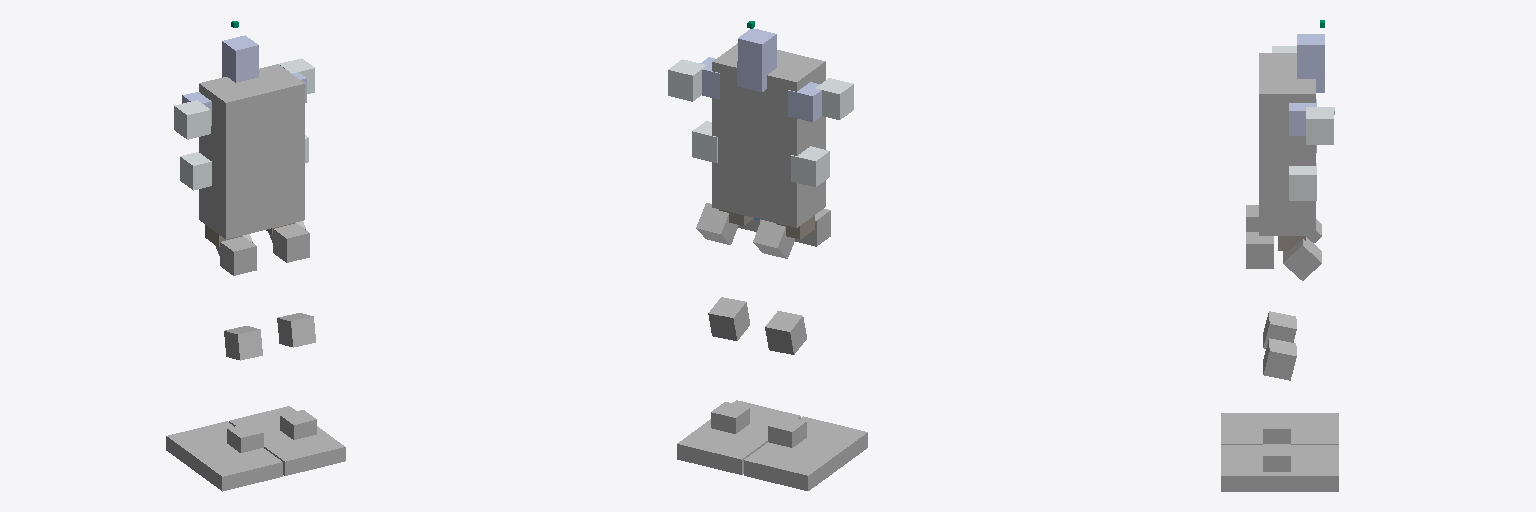
--- Render facts (derived) ---
Views: 3 orthographic renders of the robot side by side, from view 1: azimuth 30°, elevation 25°; view 2: azimuth 150°, elevation 25°; view 3: azimuth 270°, elevation 25°.
Robot: SAKURA — 24 links, 23 joints (20 continuous, 2 fixed, 1 floating); root link world; default pose: all joints at 0.
Visible links, largest first — view 1: TRUNK, LFOOT, RFOOT, RLEG1, LARM1, LLEG1, HEAD1, LLEG3, RLEG3, LARM2, LLEG4, RLEG4 (+1 smaller); view 2: TRUNK, LFOOT, RFOOT, LLEG3, RLEG3, HEAD1, LARM2, RARM1, LARM1, LARM0, RLEG2, LLEG2 (+6 smaller); view 3: TRUNK, RFOOT, LFOOT, RLEG3, RLEG2, RARM1, RARM2, RLEG1, HEAD1, LLEG3, RLEG4, LLEG4 (+1 smaller).
Link boxes in pixels (bbox=[...]): TRUNK: bbox=[199, 64, 304, 238]; LFOOT: bbox=[166, 421, 282, 491]; RFOOT: bbox=[229, 406, 345, 475]; RLEG1: bbox=[273, 223, 309, 262]; LARM1: bbox=[174, 100, 210, 139]; LLEG1: bbox=[220, 236, 256, 275]; HEAD1: bbox=[222, 35, 258, 74]; LLEG3: bbox=[224, 326, 262, 360]; RLEG3: bbox=[277, 313, 315, 347]; LARM2: bbox=[180, 152, 211, 190]; LLEG4: bbox=[227, 423, 263, 452]; RLEG4: bbox=[280, 410, 316, 439]; TRUNK: bbox=[712, 43, 825, 227]; LFOOT: bbox=[744, 416, 867, 490]; RFOOT: bbox=[677, 400, 800, 474]; LLEG3: bbox=[765, 311, 806, 354]; RLEG3: bbox=[708, 297, 749, 340]; HEAD1: bbox=[738, 28, 776, 69]; LARM2: bbox=[791, 146, 829, 186]; RARM1: bbox=[668, 59, 706, 101]; LARM1: bbox=[816, 78, 853, 119]; LARM0: bbox=[788, 82, 821, 121]; RLEG2: bbox=[696, 203, 738, 244]; LLEG2: bbox=[753, 220, 794, 258]; TRUNK: bbox=[1259, 53, 1315, 235]; RFOOT: bbox=[1221, 445, 1338, 491]; LFOOT: bbox=[1221, 413, 1338, 444]; RLEG3: bbox=[1263, 338, 1296, 380]; RLEG2: bbox=[1283, 237, 1321, 280]; RARM1: bbox=[1306, 107, 1334, 144]; RARM2: bbox=[1289, 163, 1316, 200]; RLEG1: bbox=[1246, 232, 1273, 268]; HEAD1: bbox=[1297, 34, 1324, 66]; LLEG3: bbox=[1263, 311, 1296, 348]; RLEG4: bbox=[1263, 444, 1290, 471]; LLEG4: bbox=[1263, 417, 1290, 443].
Bounding box of the posed robot: 0.31 × 0.208 × 0.8593 m (x, y, z).
Geometry: primitives only (box / cylinder / sphere), no mesh files.

The robot description file, URDF, robot "SAKURA":
<?xml version="1.0"?>
<robot
  name="SAKURA">	
    <!-- camera -->
  <!--<gazebo reference="camera_link">
    <sensor type="camera" name="camera">
      <update_rate>30.0</update_rate>
      <camera name="head">
        <horizontal_fov>1.3962634</horizontal_fov>
        <image>
          <width>800</width>
          <height>800</height>
          <format>R8G8B8</format>
        </image>
        <clip>
          <near>0.02</near>
          <far>300</far>
        </clip>
        <noise>
          <type>gaussian</type>
          <mean>0.0</mean>
          <stddev>0.007</stddev>
        </noise>
      </camera>
      <plugin name="camera_controller" filename="libgazebo_ros_camera.so">
        <alwaysOn>true</alwaysOn>
        <updateRate>0.0</updateRate>
        <cameraName>humanoid/camera</cameraName>
        <imageTopicName>image_raw</imageTopicName>
        <cameraInfoTopicName>camera_info</cameraInfoTopicName>
        <frameName>camera_link</frameName>
        <hackBaseline>0.07</hackBaseline>
        <distortionK1>0.0</distortionK1>
        <distortionK2>0.0</distortionK2>
        <distortionK3>0.0</distortionK3>
        <distortionT1>0.0</distortionT1>
        <distortionT2>0.0</distortionT2>
      </plugin>
    </sensor>
  </gazebo>
  -->
  <gazebo reference="imu_link">
    <gravity>true</gravity>
    <sensor name="imu_sensor" type="imu">
      <always_on>true</always_on>
      <update_rate>125</update_rate>
      <visualize>true</visualize>
      <topic>__default_topic__</topic>
      <plugin filename="libgazebo_ros_imu_sensor.so" name="imu_plugin">
        <topicName>imu/data_raw</topicName>
        <bodyName>imu_link</bodyName>
        <updateRateHZ>125.0</updateRateHZ>
        <gaussianNoise>0.0</gaussianNoise>
        <xyzOffset>0 0 0</xyzOffset>
        <rpyOffset>0 0 0</rpyOffset>
        <frameName>imu_link</frameName>
      </plugin>
      <pose>0 0 0 0 0 0</pose>
    </sensor>
  </gazebo>
  <gazebo>
    <plugin filename="libgazebo_ros_control.so" name="gazebo_ros_control">
      <robotNamespace>/SAKURA</robotNamespace>
      <robotSimType>gazebo_ros_control/DefaultRobotHWSim</robotSimType>
    </plugin>
  </gazebo>
  <gazebo reference="J_HEAD0">
	<stopErp>0.2</stopErp>
	<implicitSpringDamper>true</implicitSpringDamper>
	<provideFeedback>true</provideFeedback>
  </gazebo>  
  <gazebo reference="J_HEAD1">
	<stopErp>0.2</stopErp>
	<implicitSpringDamper>true</implicitSpringDamper>
	<provideFeedback>true</provideFeedback>
  </gazebo>  
  <gazebo reference="J_LARM0">
	<stopErp>0.2</stopErp>
	<implicitSpringDamper>true</implicitSpringDamper>
	<provideFeedback>true</provideFeedback>
  </gazebo>  
  <gazebo reference="J_LARM1">
	<stopErp>0.2</stopErp>
	<implicitSpringDamper>true</implicitSpringDamper>
	<provideFeedback>true</provideFeedback>
  </gazebo>  
  <gazebo reference="J_LARM2">
	<stopErp>0.2</stopErp>
	<implicitSpringDamper>true</implicitSpringDamper>
	<provideFeedback>true</provideFeedback>
  </gazebo>  
  <gazebo reference="J_RARM0">
	<stopErp>0.2</stopErp>
	<implicitSpringDamper>true</implicitSpringDamper>
	<provideFeedback>true</provideFeedback>
  </gazebo>  
  <gazebo reference="J_RARM1">
	<stopErp>0.2</stopErp>
	<implicitSpringDamper>true</implicitSpringDamper>
	<provideFeedback>true</provideFeedback>
  </gazebo>  
  <gazebo reference="J_LLEG0">
	<stopErp>0.2</stopErp>
	<implicitSpringDamper>true</implicitSpringDamper>
	<provideFeedback>true</provideFeedback>
  </gazebo>  
  <gazebo reference="J_LLEG1">
	<stopErp>0.2</stopErp>
	<implicitSpringDamper>true</implicitSpringDamper>
	<provideFeedback>true</provideFeedback>
  </gazebo>  
  <gazebo reference="J_LLEG2">
	<stopErp>0.2</stopErp>
	<implicitSpringDamper>true</implicitSpringDamper>
	<provideFeedback>true</provideFeedback>
  </gazebo>  
  <gazebo reference="J_LLEG3">
	<stopErp>0.2</stopErp>
	<implicitSpringDamper>true</implicitSpringDamper>
	<provideFeedback>true</provideFeedback>
  </gazebo>  
  <gazebo reference="J_LLEG4">
	<stopErp>0.2</stopErp>
	<implicitSpringDamper>true</implicitSpringDamper>
	<provideFeedback>true</provideFeedback>
  </gazebo>  
  <gazebo reference="J_RLEG0">
	<stopErp>0.2</stopErp>
	<implicitSpringDamper>true</implicitSpringDamper>
	<provideFeedback>true</provideFeedback>
  </gazebo>  
  <gazebo reference="J_RLEG1">
	<stopErp>0.2</stopErp>
	<implicitSpringDamper>true</implicitSpringDamper>
	<provideFeedback>true</provideFeedback>
  </gazebo>  
  <gazebo reference="J_RLEG2">
	<stopErp>0.2</stopErp>
	<implicitSpringDamper>true</implicitSpringDamper>
	<provideFeedback>true</provideFeedback>
  </gazebo>  
  <gazebo reference="J_RLEG3">
	<stopErp>0.2</stopErp>
	<implicitSpringDamper>true</implicitSpringDamper>
	<provideFeedback>true</provideFeedback>
  </gazebo>  
  <gazebo reference="J_RLEG4">
	<stopErp>0.2</stopErp>
	<implicitSpringDamper>true</implicitSpringDamper>
	<provideFeedback>true</provideFeedback>
  </gazebo> 
  <gazebo reference="J_RARM2">
	<stopErp>0.2</stopErp>
	<implicitSpringDamper>true</implicitSpringDamper>
	<provideFeedback>true</provideFeedback>
  </gazebo> 
  <gazebo reference="J_LFOOT">
	<stopErp>0.2</stopErp>
	<implicitSpringDamper>true</implicitSpringDamper>
	<provideFeedback>true</provideFeedback>
  </gazebo>  
  <gazebo reference="J_RFOOT">
	<stopErp>0.2</stopErp>
	<implicitSpringDamper>true</implicitSpringDamper>
	<provideFeedback>true</provideFeedback>
  </gazebo>  
  <gazebo reference="TRUNK">
    <mu1>1.0</mu1>
    <mu2>1.0</mu2>
    <kp>1220000.0</kp>
    <kd>1.0</kd> <!---->
  </gazebo>
  <gazebo reference="RFOOT">
    <mu1>1.0</mu1>
    <mu2>1.0</mu2>
    <kp>1220000.0</kp>
    <kd>1.0</kd> <!---->
  </gazebo>
  <gazebo reference="LFOOT">
    <mu1>1.0</mu1>
    <mu2>1.0</mu2>
    <kp>1220000.0</kp>
    <kd>1.0</kd> <!---->
  </gazebo>
  
<!-- FT SENSORS -->
<!--  <gazebo>
	<plugin name="ft_sensor" filename="libgazebo_ros_ft_sensor.so">
	  <updateRate>100.0</updateRate>
	  <topicName>ft_sensor_head0</topicName>
	  <jointName>J_HEAD0</jointName>
	</plugin>
  </gazebo>
  <gazebo>
	<plugin name="ft_sensor" filename="libgazebo_ros_ft_sensor.so">
	  <updateRate>100.0</updateRate>
	  <topicName>ft_sensor_head1</topicName>
	  <jointName>J_HEAD1</jointName>
	</plugin>
  </gazebo>

  <gazebo>
	<plugin name="ft_sensor" filename="libgazebo_ros_ft_sensor.so">
	  <updateRate>100.0</updateRate>
	  <topicName>ft_sensor_larm0</topicName>
	  <jointName>J_LARM0</jointName>
	</plugin>
  </gazebo>
  <gazebo>
	<plugin name="ft_sensor" filename="libgazebo_ros_ft_sensor.so">
	  <updateRate>100.0</updateRate>
	  <topicName>ft_sensor_larm1</topicName>
	  <jointName>J_LARM1</jointName>
	</plugin>
  </gazebo>
  <gazebo>
	<plugin name="ft_sensor" filename="libgazebo_ros_ft_sensor.so">
	  <updateRate>100.0</updateRate>
	  <topicName>ft_sensor_larm2</topicName>
	  <jointName>J_LARM2</jointName>
	</plugin>
  </gazebo>
  
  
    <gazebo>
	<plugin name="ft_sensor" filename="libgazebo_ros_ft_sensor.so">
	  <updateRate>100.0</updateRate>
	  <topicName>ft_sensor_rarm0</topicName>
	  <jointName>J_RARM0</jointName>
	</plugin>
  </gazebo>
  <gazebo>
	<plugin name="ft_sensor" filename="libgazebo_ros_ft_sensor.so">
	  <updateRate>100.0</updateRate>
	  <topicName>ft_sensor_rarm1</topicName>
	  <jointName>J_RARM1</jointName>
	</plugin>
  </gazebo>
  <gazebo>
	<plugin name="ft_sensor" filename="libgazebo_ros_ft_sensor.so">
	  <updateRate>100.0</updateRate>
	  <topicName>ft_sensor_rarm2</topicName>
	  <jointName>J_RARM2</jointName>
	</plugin>
  </gazebo>
  
  
  
  <gazebo>
	<plugin name="ft_sensor" filename="libgazebo_ros_ft_sensor.so">
	  <updateRate>100.0</updateRate>
	  <topicName>ft_sensor_lleg0</topicName>
	  <jointName>J_LLEG0</jointName>
	</plugin>
  </gazebo>
    <gazebo>
	<plugin name="ft_sensor" filename="libgazebo_ros_ft_sensor.so">
	  <updateRate>100.0</updateRate>
	  <topicName>ft_sensor_lleg1</topicName>
	  <jointName>J_LLEG1</jointName>
	</plugin>
  </gazebo>
    <gazebo>
	<plugin name="ft_sensor" filename="libgazebo_ros_ft_sensor.so">
	  <updateRate>100.0</updateRate>
	  <topicName>ft_sensor_lleg2</topicName>
	  <jointName>J_LLEG2</jointName>
	</plugin>
  </gazebo>
    <gazebo>
	<plugin name="ft_sensor" filename="libgazebo_ros_ft_sensor.so">
	  <updateRate>100.0</updateRate>
	  <topicName>ft_sensor_lleg3</topicName>
	  <jointName>J_LLEG3</jointName>
	</plugin>
  </gazebo>
    <gazebo>
	<plugin name="ft_sensor" filename="libgazebo_ros_ft_sensor.so">
	  <updateRate>100.0</updateRate>
	  <topicName>ft_sensor_lleg4</topicName>
	  <jointName>J_LLEG4</jointName>
	</plugin>
  </gazebo>
    <gazebo>
	<plugin name="ft_sensor" filename="libgazebo_ros_ft_sensor.so">
	  <updateRate>100.0</updateRate>
	  <topicName>ft_sensor_lfoot</topicName>
	  <jointName>J_LFOOT</jointName>
	</plugin>
  </gazebo>
  
    <gazebo>
	<plugin name="ft_sensor" filename="libgazebo_ros_ft_sensor.so">
	  <updateRate>100.0</updateRate>
	  <topicName>ft_sensor_rleg0</topicName>
	  <jointName>J_RLEG0</jointName>
	</plugin>
  </gazebo>
    <gazebo>
	<plugin name="ft_sensor" filename="libgazebo_ros_ft_sensor.so">
	  <updateRate>100.0</updateRate>
	  <topicName>ft_sensor_rleg1</topicName>
	  <jointName>J_RLEG1</jointName>
	</plugin>
  </gazebo>
    <gazebo>
	<plugin name="ft_sensor" filename="libgazebo_ros_ft_sensor.so">
	  <updateRate>100.0</updateRate>
	  <topicName>ft_sensor_rleg2</topicName>
	  <jointName>J_RLEG2</jointName>
	</plugin>
  </gazebo>
    <gazebo>
	<plugin name="ft_sensor" filename="libgazebo_ros_ft_sensor.so">
	  <updateRate>100.0</updateRate>
	  <topicName>ft_sensor_rleg3</topicName>
	  <jointName>J_RLEG3</jointName>
	</plugin>
  </gazebo>
    <gazebo>
	<plugin name="ft_sensor" filename="libgazebo_ros_ft_sensor.so">
	  <updateRate>100.0</updateRate>
	  <topicName>ft_sensor_rleg4</topicName>
	  <jointName>J_RLEG4</jointName>
	</plugin>
  </gazebo>
    <gazebo>
	<plugin name="ft_sensor" filename="libgazebo_ros_ft_sensor.so">
	  <updateRate>100.0</updateRate>
	  <topicName>ft_sensor_rfoot</topicName>
	  <jointName>J_RFOOT</jointName>
	</plugin>
  </gazebo> -->
  <gazebo>
  	<plugin name="ft_sensor" filename="libgazebo_ros_ft_sensor.so">
	  <updateRate>100.0</updateRate>
	  <topicName>ft_sensor_rfoot</topicName>
	  <jointName>J_RFOOT</jointName>
	</plugin>
	
	<plugin name="ft_sensor" filename="libgazebo_ros_ft_sensor.so">
	  <updateRate>100.0</updateRate>
	  <topicName>ft_sensor_lfoot</topicName>
	  <jointName>J_LFOOT</jointName>
	</plugin>
  </gazebo>
  
  
  

  <link name="world">  </link>
  
  <link name="imu_link">
    <visual>
      <origin xyz="0 0 0" rpy="0 0 0"/>
      <geometry>
    <box size="0.01 0.01 0.01"/>
      </geometry>
      <material name="red"/>
    </visual>

    <inertial>
      <mass value="1e-3" />
      <origin xyz="0 0 0" rpy="0 0 0"/>
      <inertia ixx="1e-3" ixy="0" ixz="0" iyy="1e-3" iyz="0" izz="1e-3" />
    </inertial>
  </link>
  <joint name="imu_joint" type="fixed">
    <axis xyz="-1 0 0" />
    <origin xyz="0 0 0" rpy="0 0 0"/>
    <parent link="TRUNK"/>
    <child link="imu_link"/>
  </joint>
  
  
   <!-- Camera -->
  <link name="camera_link">
    <visual>
      <origin xyz="0 0 0" rpy="0 0 0"/>
      <geometry>
    <box size="0.01 0.01 0.01"/>
      </geometry>
      <material name="red"/>
    </visual>

    <inertial>
      <mass value="1e-3" />
      <origin xyz="0 0 0" rpy="0 0 0"/>
      <inertia ixx="1e-3" ixy="0" ixz="0" iyy="1e-3" iyz="0" izz="1e-3" />
    </inertial>
  </link>
  
  <joint name="camera_joint" type="fixed">
    <axis xyz="0 0 1" />
    <origin xyz="0.02 0.055 0.00" rpy="-1.5707 0 0"/>
    <parent link="HEAD1"/>
    <child link="camera_link"/>
  </joint>

  
  
  
  <link
    name="TRUNK">
    <inertial>
      <origin
        xyz="-0.000142944293532541 -0.0159940135836359 0.119253638413231"
        rpy="0 0 0" />
      <mass
        value="1.4778155091901" />
      <inertia
        ixx="0.0125398154437975"
        ixy="0"
        ixz="0"
        iyy="0.016695640033345"
        iyz="0"
        izz="0.01567882258573842" />
    </inertial>
    <collision>
      <origin
        xyz="0 -0.04 0.14"
        rpy="0 0 0" />
        <geometry>
          <box size="0.17 0.1 0.28"/>
        </geometry>
    </collision>
    <visual>
      <origin
        xyz="0 -0.04 0.14"
        rpy="0 0 0" />
        <geometry>
          <box size="0.17 0.1 0.28"/>
        </geometry>
      <material
        name="">
        <color
          rgba="0.752941176470588 0.752941176470588 0.752941176470588 1" />
      </material>
    </visual>
  </link>
  <joint name="fixed" type="floating">
    <parent link="world"/>
    <child link="TRUNK"/>
    <origin xyz="0 0 0.50" rpy="0 0 0"/>
  </joint>
  <link
    name="HEAD0">
    <inertial>
      <origin
        xyz="-4.1596E-06 -0.00045169 0.0273"
        rpy="0 0 0" />
      <mass
        value="0.072495" />
      <inertia ixx="1e-3" ixy="0" ixz="0" iyy="1e-3" iyz="0" izz="1e-3" />
    </inertial>
    <visual>
      <origin
        xyz="0 0 0"
        rpy="0 0 0" />
        <geometry>
          <box size="0.05 0.05 0.05"/>
        </geometry>
      <material
        name="">
        <color
          rgba="0.79216 0.81961 0.93333 1" />
      </material>
    </visual>
  </link>
  <link
    name="HEAD1">
    <inertial>
      <origin
        xyz="0.000492167176094648 0.0499545659310894 0"
        rpy="0 0 0" />
      <mass
        value="0.160467558648652" />
      <inertia ixx="1e-3" ixy="0" ixz="0" iyy="1e-3" iyz="0" izz="1e-3" />
    </inertial>
    <visual>
    <origin
        xyz="0 0 0"
        rpy="0 0 0" />
        <geometry>
          <box size="0.05 0.05 0.05"/>
        </geometry>
      <material
        name="">
        <color
          rgba="0.792156862745098 0.819607843137255 0.933333333333333 1" />
      </material>
    </visual>
  </link>

  
  <joint
    name="J_HEAD0"
    type="continuous">
    <origin
      xyz="0 0.002 0.2785"
      rpy="0 0 -1.5708" />
    <parent
      link="TRUNK" />
    <child
      link="HEAD0" />
    <axis
      xyz="0 0 1" />
    <limit
      effort="10"
      velocity="8.58" />
    <dynamics 
	  damping= "0.7"
	  friction="0.5"/>
  </joint>
  
  <joint
    name="J_HEAD1"
    type="continuous">
    <origin
      xyz="0 -0.0005 0.0425"
      rpy="1.5708 0 3.1416" />
    <parent
      link="HEAD0" />
    <child
      link="HEAD1" />
    <axis
      xyz="0 0 -1" />
    <limit
      effort="10"
      velocity="8.58" />
    <dynamics 
	  damping= "0.7"
	  friction="0.5"/>
  </joint>
  
  <link
    name="LARM0">
    <inertial>
      <origin
        xyz="0 0 0.0103025666414173"
        rpy="0 0 0" />
      <mass
        value="0.0066175226097181" />
      <inertia
        ixx="1.E-03"
        ixy="0"
        ixz="0"
        iyy="1.E-03"
        iyz="0"
        izz="1.E-03" />
    </inertial>
    <visual>
    <origin
        xyz="0 0 0"
        rpy="0 0 0" />
        <geometry>
          <box size="0.05 0.05 0.05"/>
        </geometry>
      <material
        name="">
        <color
          rgba="0.792156862745098 0.819607843137255 0.933333333333333 1" />
      </material>
    </visual>
  </link>
  <joint
    name="J_LARM0"
    type="continuous">
    <origin
      xyz="-0.094 -0.0125 0.237"
      rpy="1.5708 3.14159 -1.5708" />
    <parent
      link="TRUNK" />
    <child
      link="LARM0" />
    <axis
      xyz="0 0 1" />
    <limit
      effort="10"
      velocity="8.58" />
    <dynamics 
     damping= "0.7"
     friction="0.5"/>
  </joint>
  <link
    name="LARM1">
    <inertial>
      <origin
        xyz="-0.000203905909046856 -0.0358166170046635 -0.030724518771744"
        rpy="0 0 0" />
      <mass
        value="0.386889741732442" />
      <inertia
        ixx="0.001319462933467775"
        ixy="0"
        ixz="0"
        iyy="0.001"
        iyz="0"
        izz="0.001386423060557297" />
    </inertial>
    <visual>
    <origin
        xyz="0 0 0"
        rpy="0 0 0" />
        <geometry>
          <box size="0.05 0.05 0.05"/>
        </geometry>
      <material
        name="">
        <color
          rgba="0.898039215686275 0.92156862745098 0.929411764705882 1" />
      </material>
    </visual>
  </link>
  <joint
    name="J_LARM1"
    type="continuous">
    <origin
      xyz="-0.0308 0 0.036"
      rpy="3.1416 1.5708 0" />
    <parent
      link="LARM0" />
    <child
      link="LARM1" />
    <axis
      xyz="0 0 -1" />
    <limit
      effort="10"
      velocity="8.58" />
        <dynamics 
     damping= "0.7"
     friction="0.5"/>
  </joint>
  <link
    name="LARM2">
    <inertial>
      <origin
        xyz="-0.000946892853796732 -0.0604743903550126 -0.030549305382329"
        rpy="0 0 0" />
      <mass
        value="0.417770884687889" />
      <inertia
        ixx="0.00130365609096481"
        ixy="0"
        ixz="0"
        iyy="0.001"
        iyz="0"
        izz="0.00130522583526536" />
    </inertial>
    <visual>
    <origin
        xyz="0 0 0"
        rpy="0 0 0" />
        <geometry>
          <box size="0.05 0.05 0.05"/>
        </geometry>
      <material
        name="">
        <color
          rgba="0.898039215686275 0.92156862745098 0.929411764705882 1" />
      </material>
    </visual>
  </link>
  <joint
    name="J_LARM2"
    type="continuous">
    <origin
      xyz="0.0307 -0.1235 -0.0308"
      rpy="0 1.5708 0" />
    <parent
      link="LARM1" />
    <child
      link="LARM2" />
    <axis
      xyz="0 0 -1" />
    <limit
      effort="10"
      velocity="8.58" />
        <dynamics 
     damping= "0.7"
     friction="0.5"/>
  </joint>
  <link
    name="RARM0">
    <inertial>
      <origin
        xyz="0 0 0.0103025666414173"
        rpy="0 0 0" />
      <mass
        value="0.00661752260971814" />
      <inertia
        ixx="1.E-03"
        ixy="0"
        ixz="0"
        iyy="1.E-03"
        iyz="0"
        izz="1.E-03" />
    </inertial>
    <visual>
    <origin
        xyz="0 0 0"
        rpy="0 0 0" />
        <geometry>
          <box size="0.05 0.05 0.05"/>
        </geometry>
      <material
        name="">
        <color
          rgba="0.792156862745098 0.819607843137255 0.933333333333333 1" />
      </material>
    </visual>
  </link>
  <joint
    name="J_RARM0"
    type="continuous">
    <origin
      xyz="0.094 -0.0125 0.237"
      rpy="-1.5708 0 -1.5708" />
    <parent
      link="TRUNK" />
    <child
      link="RARM0" />
    <axis
      xyz="0 0 1" />
    <limit
      effort="10"
      velocity="8.58" />
        <dynamics 
     damping= "0.7"
     friction="0.5"/>
  </joint>
  <link
    name="RARM1">
    <inertial>
      <origin
        xyz="-0.00020391 -0.035817 -0.030725"
        rpy="0 0 0" />
      <mass
        value="0.38689" />
      <inertia
        ixx="0.00131946"
        ixy="0"
        ixz="0"
        iyy="0.001"
        iyz="0"
        izz="0.00138642" />
    </inertial>
    <visual>
    <origin
        xyz="0 0 0"
        rpy="0 0 0" />
        <geometry>
          <box size="0.05 0.05 0.05"/>
        </geometry>
      <material
        name="">
        <color
          rgba="0.89804 0.92157 0.92941 1" />
      </material>
    </visual>
  </link>
  <joint
    name="J_RARM1"
    type="continuous">
    <origin
      xyz="-0.0308 0 0.036"
      rpy="3.1416 1.5708 0" />
    <parent
      link="RARM0" />
    <child
      link="RARM1" />
    <axis
      xyz="0 0 1" />
    <limit
      effort="10"
      velocity="8.58" />
        <dynamics 
     damping= "0.7"
     friction="0.5"/>
  </joint>
  <link
    name="RARM2">
    <inertial>
      <origin
        xyz="-0.000946892853796774 -0.0604743903550127 -0.0305493053823289"
        rpy="0 0 0" />
      <mass
        value="0.417770884687889" />
      <inertia
        ixx="0.00130365609096481"
        ixy="0"
        ixz="0"
        iyy="0.001"
        iyz="0"
        izz="0.00130522583526536" />
    </inertial>
    <visual>
    <origin
        xyz="0 0 0"
        rpy="0 0 0" />
        <geometry>
          <box size="0.05 0.05 0.05"/>
        </geometry>
      <material
        name="">
        <color
          rgba="0.898039215686275 0.92156862745098 0.929411764705882 1" />
      </material>
    </visual>
  </link>
  <joint
    name="J_RARM2"
    type="continuous">
    <origin
      xyz="0.0307 -0.1235 -0.0308"
      rpy="0 1.5708 0" />
    <parent
      link="RARM1" />
    <child
      link="RARM2" />
    <axis
      xyz="0 0 -1" />
    <limit
      effort="10"
      velocity="8.58" />
        <dynamics 
     damping= "0.7"
     friction="0.5"/>
  </joint>
  <link
    name="LLEG0">
    <inertial>
      <origin
        xyz="0 0 0.012339611662812"
        rpy="0 0 0" />
      <mass
        value="0.137487098095279" />
      <inertia
        ixx="0.001"
        ixy="0"
        ixz="0"
        iyy="0.001"
        iyz="0"
        izz="0.001" />
    </inertial>
    <visual>
    <origin
        xyz="0 0 0"
        rpy="0 0 0" />
        <geometry>
          <box size="0.05 0.05 0.05"/>
        </geometry>
      <material
        name="">
        <color
          rgba="0.650980392156863 0.619607843137255 0.588235294117647 1" />
      </material>
    </visual>
  </link>
  <joint
    name="J_LLEG0"
    type="continuous">
    <origin
      xyz="-0.057 -0.0325 -0.005"
      rpy="-3.14159265358979 0 -1.5707963267949" />
    <parent
      link="TRUNK" />
    <child
      link="LLEG0" />
    <axis
      xyz="0 0 1" />
    <limit
      effort="10"
      velocity="8.58" />
        <dynamics 
     damping= "0.7"
     friction="0.5"/>
  </joint>
  <link
    name="LLEG1">
    <inertial>
      <origin
        xyz="0 -0.014933566350856 -0.0542307430726147"
        rpy="0 0 0" />
      <mass
        value="0.484317524341268" />
      <inertia
        ixx="0.001258532465487086"
        ixy="0"
        ixz="07"
        iyy="0.001256538006237082"
        iyz="8.86337248194806E-06"
        izz="0.001" />
    </inertial>
    <visual>
    <origin
        xyz="0 0 0"
        rpy="0 0 0" />
        <geometry>
          <box size="0.05 0.05 0.05"/>
        </geometry>
      <material
        name="">
        <color
          rgba="0.752941176470588 0.752941176470588 0.752941176470588 1" />
      </material>
    </visual>
  </link>
  <joint
    name="J_LLEG1"
    type="continuous">
    <origin
      xyz="0.056 0 0.036"
      rpy="-1.5707963267949 0 -1.5707963267949" />
    <parent
      link="LLEG0" />
    <child
      link="LLEG1" />
    <axis
      xyz="0 0 -1" />
    <limit
      effort="10"
      velocity="8.58" />
        <dynamics 
     damping= "0.7"
     friction="0.5"/>
  </joint>
  <link
    name="LLEG2">
    <inertial>
      <origin
        xyz="0.0896135033902749 -0.121669815792639 -0.0285739776731877"
        rpy="0 0 0" />
      <mass
        value="0.429581814867276" />
      <inertia
        ixx="0.001739443276879588"
        ixy="0"
        ixz="0"
        iyy="0.00145781924000273"
        iyz="0"
        izz="0.00100793675092908" />
    </inertial>
    <visual>
    <origin
        xyz="0 0 0"
        rpy="0 0 0" />
        <geometry>
          <box size="0.05 0.05 0.05"/>
        </geometry>
      <material
        name="">
        <color
          rgba="0.752941176470588 0.752941176470588 0.752941176470588 1" />
      </material>
    </visual>
  </link>
  <joint
    name="J_LLEG2"
    type="continuous">
    <origin
      xyz="0.0289999999999999 0 -0.0750000000000234"
      rpy="-1.5707963267949 0.78539816339745 -1.5707963267949" />
    <parent
      link="LLEG1" />
    <child
      link="LLEG2" />
    <axis
      xyz="0 0 1" />
    <limit
      effort="10"
      velocity="8.58" />
        <dynamics 
     damping= "0.7"
     friction="0.5"/>
  </joint>
  <link
    name="LLEG3">
    <inertial>
      <origin
        xyz="0.0938607247050214 0.021121469241447 -0.0266864244548486"
        rpy="0 0 0" />
      <mass
        value="0.253457988874213" />
      <inertia
        ixx="0.001157893827081503"
        ixy="0"
        ixz="0"
        iyy="0.001215254509125973"
        iyz="0"
        izz="0.001" />
    </inertial>
    <visual>
    <origin
        xyz="0 0 0"
        rpy="0 0 0" />
        <geometry>
          <box size="0.05 0.05 0.05"/>
        </geometry>
      <material
        name="">
        <color
          rgba="0.752941176470588 0.752941176470588 0.752941176470588 1" />
      </material>
    </visual>
  </link>
  <joint
    name="J_LLEG3"
    type="continuous">
    <origin
      xyz="0.112429978208667 -0.169643181644254 0.00160000000000024"
      rpy="-0.0320557226319531 0.0283578707512148 -1.01721646459287" />
    <parent
      link="LLEG2" />
    <child
      link="LLEG3" />
    <axis
      xyz="-0.0283540701513945 -0.0320373469653184 0.999084408398647" />
    <limit
      effort="10"
      velocity="8.58" />
        <dynamics 
     damping= "0.7"
     friction="0.5"/>  
  </joint>
  <link
    name="LLEG4">
    <inertial>
      <origin
        xyz="0.0207692569273853 -0.0149335663508559 -0.0309509783436903"
        rpy="0 0 0" />
      <mass
        value="0.484317524341267" />
      <inertia
        ixx="0.001"
        ixy="0"
        ixz="0"
        iyy="0.001256538006237082"
        iyz="0"
        izz="0.001258532465487085" />
    </inertial>
    <visual>
    <origin
        xyz="0 0 0"
        rpy="0 0 0" />
        <geometry>
          <box size="0.05 0.05 0.05"/>
        </geometry>
      <material
        name="">
        <color
          rgba="0.752941176470588 0.752941176470588 0.752941176470588 1" />
      </material>
    </visual>
  </link>
  <joint
    name="J_LLEG4"
    type="continuous">
    <origin
      xyz="0.19759 0.040682 0.007913"
      rpy="0.034963 0.024684 -1.339" />
    <parent
      link="LLEG3" />
    <child
      link="LLEG4" />
    <axis
      xyz="0 0 -1" />
    <limit
      effort="10"
      velocity="8.58" />
        <dynamics 
     damping= "0.7"
     friction="0.5"/>
  </joint>
  <link
    name="LFOOT">
    <inertial>
      <origin
        xyz="-0.00984398078216434 0.033081446163245 0.0742424926896279"
        rpy="0 0 0" />
      <mass
        value="0.474832547151362" />
      <inertia
        ixx="0.001"
        ixy="0"
        ixz="0"
        iyy="0.001"
        iyz="0"
        izz="0.001" />
    </inertial>
    <visual>
      <origin
        xyz="-0.01 0.021 0.078"
        rpy="0 0 0" />
        <geometry>
          <box size="0.13 0.03 0.208"/>
        </geometry>
      <material
        name="">
        <color
          rgba="0.752941176470588 0.752941176470588 0.752941176470588 1" />
      </material>
    </visual>
    <collision>
      <origin
        xyz="-0.01 0.021 0.078"
        rpy="0 0 0" />
        <geometry>
          <box size="0.13 0.03 0.208"/>
        </geometry>
    </collision>
  </link>
  <joint
    name="J_LFOOT"
    type="continuous">
    <origin
      xyz="0.072 0 -0.031"
      rpy="0 -1.5708 0" />
    <parent
      link="LLEG4" />
    <child
      link="LFOOT" />
    <axis
      xyz="0 0 -1" />
    <limit
      effort="10"
      velocity="8.58" />
        <dynamics 
     damping= "0.7"
     friction="0.5"/>
  </joint>
  <link
    name="RLEG0">
    <inertial>
      <origin
        xyz="0 0 0.012339611662812"
        rpy="0 0 0" />
      <mass
        value="0.137487098095279" />
      <inertia
        ixx="0.001"
        ixy="0"
        ixz="0"
        iyy="0.001"
        iyz="0"
        izz="0.001" />
    </inertial>
    <visual>
    <origin
        xyz="0 0 0"
        rpy="0 0 0" />
        <geometry>
          <box size="0.05 0.05 0.05"/>
        </geometry>
      <material
        name="">
        <color
          rgba="0.650980392156863 0.619607843137255 0.588235294117647 1" />
      </material>
    </visual>
  </link>
  <joint
    name="J_RLEG0"
    type="continuous">
    <origin
      xyz="0.057 -0.0325 -0.005"
      rpy="-3.14159265358979 0 -1.5707963267949" />
    <parent
      link="TRUNK" />
    <child
      link="RLEG0" />
    <axis
      xyz="0 0 1" />
    <limit
      effort="10"
      velocity="8.58" />
        <dynamics 
     damping= "0.7"
     friction="0.5"/>
  </joint>
  <link
    name="RLEG1">
    <inertial>
      <origin
        xyz="0 -0.014934 -0.054231"
        rpy="0 0 0" />
      <mass
        value="0.48432" />
      <inertia
        ixx="0.00125853"
        ixy="0"
        ixz="0"
        iyy="0.00125654"
        iyz="0"
        izz="0.001" />
    </inertial>
    <visual>
    <origin
        xyz="0 0 0"
        rpy="0 0 0" />
        <geometry>
          <box size="0.05 0.05 0.05"/>
        </geometry>
      <material
        name="">
        <color
          rgba="0.75294 0.75294 0.75294 1" />
      </material>
    </visual>
  </link>
  <joint
    name="J_RLEG1"
    type="continuous">
    <origin
      xyz="0.056 0 0.036"
      rpy="-1.5707963267949 0 -1.5707963267949" />
    <parent
      link="RLEG0" />
    <child
      link="RLEG1" />
    <axis
      xyz="0 0 -1" />
    <limit
      effort="10"
      velocity="8.58" />
        <dynamics 
     damping= "0.7"
     friction="0.5"/>
  </joint>
  <link
    name="RLEG2">
    <inertial>
      <origin
        xyz="0.089613503390275 -0.121669815792639 -0.0285739776731877"
        rpy="0 0 0" />
      <mass
        value="0.429581814867276" />
      <inertia
        ixx="0.001739443276879589"
        ixy="0.00046929859222448"
        ixz="0"
        iyy="0.001457819240002731"
        iyz="0"
        izz="0.00100793675092908" />
    </inertial>
    <visual>
    <origin
        xyz="0 0 0"
        rpy="0 0 0" />
        <geometry>
          <box size="0.05 0.05 0.05"/>
        </geometry>
      <material
        name="">
        <color
          rgba="0.752941176470588 0.752941176470588 0.752941176470588 1" />
      </material>
    </visual>
  </link>
  <joint
    name="J_RLEG2"
    type="continuous">
    <origin
      xyz="0.0290000000000001 0 -0.075"
      rpy="-1.5707963267949 0.78539816339745 -1.5707963267949" />
    <parent
      link="RLEG1" />
    <child
      link="RLEG2" />
    <axis
      xyz="0 0 -1" />
    <limit
      effort="10"
      velocity="8.58" />
        <dynamics 
     damping= "0.7"
     friction="0.5"/>
  </joint>
  <link
    name="RLEG3">
    <inertial>
      <origin
        xyz="0.093861 0.021121 -0.026686"
        rpy="0 0 0" />
      <mass
        value="0.25346" />
      <inertia
        ixx="0.00115789"
        ixy="0"
        ixz="0"
        iyy="0.00121525"
        iyz="0"
        izz="0.001" />
    </inertial>
    <visual>
    <origin
        xyz="0 0 0"
        rpy="0 0 0" />
        <geometry>
          <box size="0.05 0.05 0.05"/>
        </geometry>
      <material
        name="">
        <color
          rgba="0.75294 0.75294 0.75294 1" />
      </material>
    </visual>
  </link>
  <joint
    name="J_RLEG3"
    type="continuous">
    <origin
      xyz="0.112429978208668 -0.169643181644253 0.00160000000000014"
      rpy="-0.0320557226319534 0.0283578707512146 -1.01721646459286" />
    <parent
      link="RLEG2" />
    <child
      link="RLEG3" />
    <axis
      xyz="0.0283540701513948 0.0320373469653193 -0.999084408398647" />
    <limit
      effort="10"
      velocity="8.58" />
        <dynamics 
     damping= "0.7"
     friction="0.5"/>
  </joint>
  <link
    name="RLEG4">
    <inertial>
      <origin
        xyz="0.0207692569273853 -0.014933566350856 -0.0309509783436903"
        rpy="0 0 0" />
      <mass
        value="0.484317524341268" />
      <inertia
        ixx="0.001"
        ixy="0"
        ixz="0"
        iyy="0.001256538006237082"
        iyz="0"
        izz="0.001258532465487085" />
    </inertial>
    <visual>
    <origin
        xyz="0 0 0"
        rpy="0 0 0" />
        <geometry>
          <box size="0.05 0.05 0.05"/>
        </geometry>
      <material
        name="">
        <color
          rgba="0.752941176470588 0.752941176470588 0.752941176470588 1" />
      </material>
    </visual>
  </link>
  <joint
    name="J_RLEG4"
    type="continuous">
    <origin
      xyz="0.19759 0.040682 0.007913"
      rpy="0.034963 0.024684 -1.339" />
    <parent
      link="RLEG3" />
    <child
      link="RLEG4" />
    <axis
      xyz="0 0 1" />
    <limit
      effort="10"
      velocity="8.58" />
        <dynamics 
     damping= "0.7"
     friction="0.5"/>
  </joint>
  <link
    name="RFOOT">
    <inertial>
      <origin
        xyz="0.009844 0.033081 0.074242"
        rpy="0 0 0" />
      <mass
        value="0.47483" />
      <inertia
        ixx="0.001"
        ixy="0"
        ixz="0"
        iyy="0.001"
        iyz="0"
        izz="0.001" />
    </inertial>
    <visual>
      <origin
        xyz="0.01 0.021 0.078"
        rpy="0 0 0" />
        <geometry>
          <box size="0.13 0.03 0.208"/>
        </geometry>
      <material
        name="">
        <color
          rgba="0.75294 0.75294 0.75294 1" />
      </material>
    </visual>
    <collision>
      <origin
        xyz="0.01 0.021 0.078"
        rpy="0 0 0" />
        <geometry>
          <box size="0.13 0.03 0.208"/>
        </geometry>
    </collision>
  </link>
  <joint
    name="J_RFOOT"
    type="continuous">
    <origin
      xyz="0.072 0 -0.031"
      rpy="0 -1.5708 0" />
    <parent
      link="RLEG4" />
    <child
      link="RFOOT" />
    <axis
      xyz="0 0 -1" />
    <limit
      effort="10"
      velocity="8.58" />
        <dynamics 
     damping= "0.7"
     friction="0.5"/>
  </joint>
  
  
    <transmission name="T_HEAD0">
	<type>transmission_interface/SimpleTransmission</type>
	<joint name="J_HEAD0">
	  <hardwareInterface>hardware_interface/EffortJointInterface</hardwareInterface>
	</joint>
	<actuator name="M_HEAD0">
	  <hardwareInterface>hardware_interface/EffortJointInterface</hardwareInterface>
	  <mechanicalReduction>1</mechanicalReduction>
	</actuator>
  </transmission>
  
  <transmission name="T_HEAD1">
	<type>transmission_interface/SimpleTransmission</type>
	<joint name="J_HEAD1">
	  <hardwareInterface>hardware_interface/EffortJointInterface</hardwareInterface>
	</joint>
	<actuator name="M_HEAD1">
	  <hardwareInterface>hardware_interface/EffortJointInterface</hardwareInterface>
	  <mechanicalReduction>1</mechanicalReduction>
	</actuator>
  </transmission>
  
  <transmission name="T_RARM0">
	<type>transmission_interface/SimpleTransmission</type>
	<joint name="J_RARM0">
	  <hardwareInterface>hardware_interface/EffortJointInterface</hardwareInterface>
	</joint>
	<actuator name="M_RARM0">
	  <hardwareInterface>hardware_interface/EffortJointInterface</hardwareInterface>
	  <mechanicalReduction>1</mechanicalReduction>
	</actuator>
  </transmission>

  <transmission name="T_RARM1">
	<type>transmission_interface/SimpleTransmission</type>
	<joint name="J_RARM1">
	  <hardwareInterface>hardware_interface/EffortJointInterface</hardwareInterface>
	</joint>
	<actuator name="M_RARM1">
	  <hardwareInterface>hardware_interface/EffortJointInterface</hardwareInterface>
	  <mechanicalReduction>1</mechanicalReduction>
	</actuator>
  </transmission>
  
    <transmission name="T_RARM2">
	<type>transmission_interface/SimpleTransmission</type>
	<joint name="J_RARM2">
	  <hardwareInterface>hardware_interface/EffortJointInterface</hardwareInterface>
	</joint>
	<actuator name="M_RARM2">
	  <hardwareInterface>hardware_interface/EffortJointInterface</hardwareInterface>
	  <mechanicalReduction>1</mechanicalReduction>
	</actuator>
  </transmission>
  
    <transmission name="T_LARM0">
	<type>transmission_interface/SimpleTransmission</type>
	<joint name="J_LARM0">
	  <hardwareInterface>hardware_interface/EffortJointInterface</hardwareInterface>
	</joint>
	<actuator name="M_LARM0">
	  <hardwareInterface>hardware_interface/EffortJointInterface</hardwareInterface>
	  <mechanicalReduction>1</mechanicalReduction>
	</actuator>
  </transmission>

  <transmission name="T_LARM1">
	<type>transmission_interface/SimpleTransmission</type>
	<joint name="J_LARM1">
	  <hardwareInterface>hardware_interface/EffortJointInterface</hardwareInterface>
	</joint>
	<actuator name="M_LARM1">
	  <hardwareInterface>hardware_interface/EffortJointInterface</hardwareInterface>
	  <mechanicalReduction>1</mechanicalReduction>
	</actuator>
  </transmission>
  
    <transmission name="T_LARM2">
	<type>transmission_interface/SimpleTransmission</type>
	<joint name="J_LARM2">
	  <hardwareInterface>hardware_interface/EffortJointInterface</hardwareInterface>
	</joint>
	<actuator name="M_LARM2">
	  <hardwareInterface>hardware_interface/EffortJointInterface</hardwareInterface>
	  <mechanicalReduction>1</mechanicalReduction>
	</actuator>
  </transmission>

  
  
  
    <transmission name="T_RLEG0">
	<type>transmission_interface/SimpleTransmission</type>
	<joint name="J_RLEG0">
	  <hardwareInterface>hardware_interface/EffortJointInterface</hardwareInterface>
	</joint>
	<actuator name="M_RLEG0">
	  <hardwareInterface>hardware_interface/EffortJointInterface</hardwareInterface>
	  <mechanicalReduction>1</mechanicalReduction>
	</actuator>
  </transmission>

  <transmission name="T_RLEG1">
	<type>transmission_interface/SimpleTransmission</type>
	<joint name="J_RLEG1">
	  <hardwareInterface>hardware_interface/EffortJointInterface</hardwareInterface>
	</joint>
	<actuator name="M_RLEG1">
	  <hardwareInterface>hardware_interface/EffortJointInterface</hardwareInterface>
	  <mechanicalReduction>1</mechanicalReduction>
	</actuator>
  </transmission>
  
    <transmission name="T_RLEG2">
	<type>transmission_interface/SimpleTransmission</type>
	<joint name="J_RLEG2">
	  <hardwareInterface>hardware_interface/EffortJointInterface</hardwareInterface>
	</joint>
	<actuator name="M_RLEG2">
	  <hardwareInterface>hardware_interface/EffortJointInterface</hardwareInterface>
	  <mechanicalReduction>1</mechanicalReduction>
	</actuator>
  </transmission>
  
    <transmission name="T_RLEG3">
	<type>transmission_interface/SimpleTransmission</type>
	<joint name="J_RLEG3">
	  <hardwareInterface>hardware_interface/EffortJointInterface</hardwareInterface>
	</joint>
	<actuator name="M_RLEG3">
	  <hardwareInterface>hardware_interface/EffortJointInterface</hardwareInterface>
	  <mechanicalReduction>1</mechanicalReduction>
	</actuator>
  </transmission>
  
   <transmission name="T_RLEG4">
	<type>transmission_interface/SimpleTransmission</type>
	<joint name="J_RLEG4">
	  <hardwareInterface>hardware_interface/EffortJointInterface</hardwareInterface>
	</joint>
	<actuator name="M_RLEG4">
	  <hardwareInterface>hardware_interface/EffortJointInterface</hardwareInterface>
	  <mechanicalReduction>1</mechanicalReduction>
	</actuator>
  </transmission>
  
  <transmission name="T_RFOOT">
	<type>transmission_interface/SimpleTransmission</type>
	<joint name="J_RFOOT">
	  <hardwareInterface>hardware_interface/EffortJointInterface</hardwareInterface>
	</joint>
	<actuator name="M_RFOOT">
	  <hardwareInterface>hardware_interface/EffortJointInterface</hardwareInterface>
	  <mechanicalReduction>1</mechanicalReduction>
	</actuator>
  </transmission>


    <transmission name="T_LLEG0">
	<type>transmission_interface/SimpleTransmission</type>
	<joint name="J_LLEG0">
	  <hardwareInterface>hardware_interface/EffortJointInterface</hardwareInterface>
	</joint>
	<actuator name="M_LLEG0">
	  <hardwareInterface>hardware_interface/EffortJointInterface</hardwareInterface>
	  <mechanicalReduction>1</mechanicalReduction>
	</actuator>
  </transmission>

  <transmission name="T_LLEG1">
	<type>transmission_interface/SimpleTransmission</type>
	<joint name="J_LLEG1">
	  <hardwareInterface>hardware_interface/EffortJointInterface</hardwareInterface>
	</joint>
	<actuator name="M_LLEG1">
	  <hardwareInterface>hardware_interface/EffortJointInterface</hardwareInterface>
	  <mechanicalReduction>1</mechanicalReduction>
	</actuator>
  </transmission>
  
    <transmission name="T_LLEG2">
	<type>transmission_interface/SimpleTransmission</type>
	<joint name="J_LLEG2">
	  <hardwareInterface>hardware_interface/EffortJointInterface</hardwareInterface>
	</joint>
	<actuator name="M_LLEG2">
	  <hardwareInterface>hardware_interface/EffortJointInterface</hardwareInterface>
	  <mechanicalReduction>1</mechanicalReduction>
	</actuator>
  </transmission>
  
    <transmission name="T_LLEG3">
	<type>transmission_interface/SimpleTransmission</type>
	<joint name="J_LLEG3">
	  <hardwareInterface>hardware_interface/EffortJointInterface</hardwareInterface>
	</joint>
	<actuator name="M_LLEG3">
	  <hardwareInterface>hardware_interface/EffortJointInterface</hardwareInterface>
	  <mechanicalReduction>1</mechanicalReduction>
	</actuator>
  </transmission>
  
   <transmission name="T_LLEG4">
	<type>transmission_interface/SimpleTransmission</type>
	<joint name="J_LLEG4">
	  <hardwareInterface>hardware_interface/EffortJointInterface</hardwareInterface>
	</joint>
	<actuator name="M_LLEG4">
	  <hardwareInterface>hardware_interface/EffortJointInterface</hardwareInterface>
	  <mechanicalReduction>1</mechanicalReduction>
	</actuator>
  </transmission>
  
  <transmission name="T_LFOOT">
	<type>transmission_interface/SimpleTransmission</type>
	<joint name="J_LFOOT">
	  <hardwareInterface>hardware_interface/EffortJointInterface</hardwareInterface>
	</joint>
	<actuator name="M_LFOOT">
	  <hardwareInterface>hardware_interface/EffortJointInterface</hardwareInterface>
	  <mechanicalReduction>1</mechanicalReduction>
	</actuator>
  </transmission>



  
</robot>
